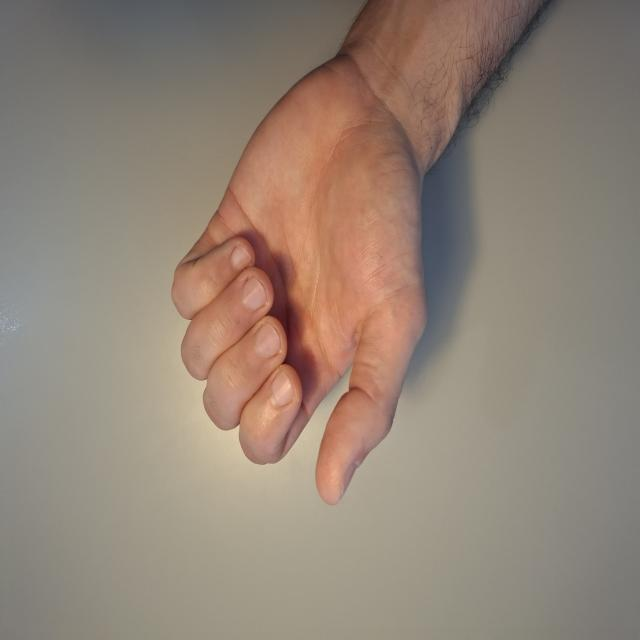glove_off: (167, 42, 432, 508)
